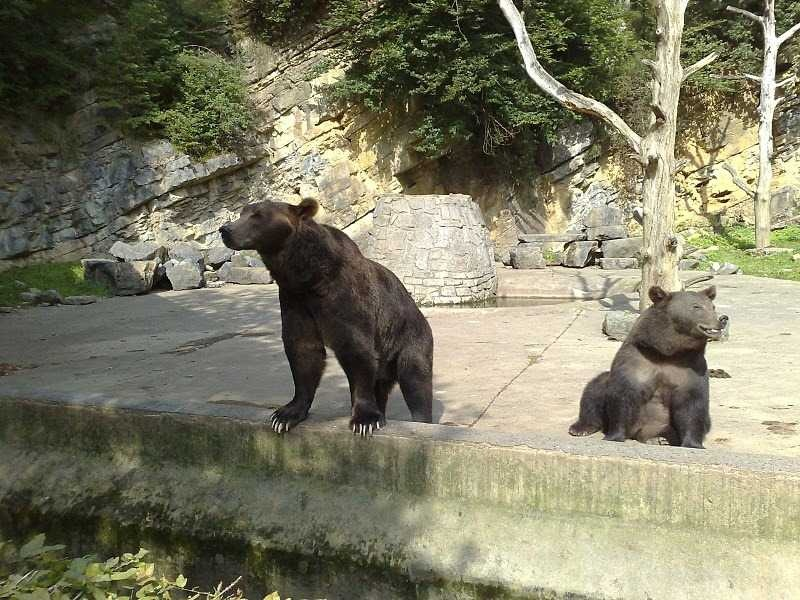bear: (214, 185, 342, 313), (612, 277, 740, 405)
